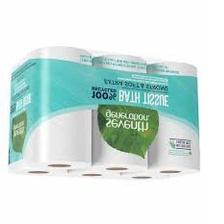tissue: (0, 40, 206, 191)
